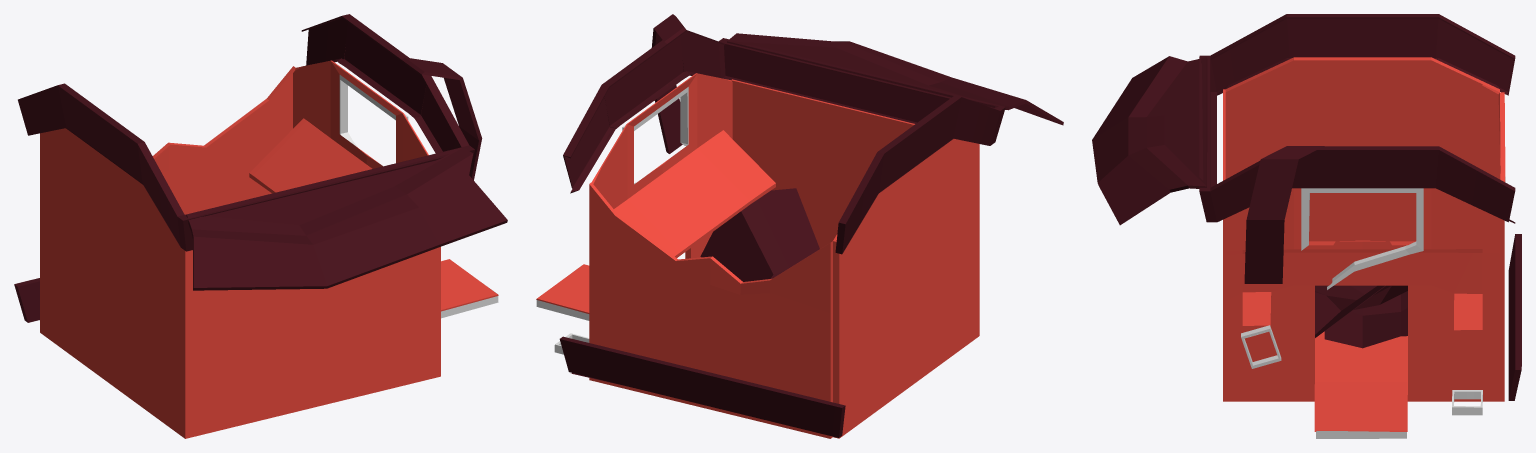
File: Ruined_FarmHouse.fbx
The picture shows the model from 3 angles, left to right: view 1: azimuth 30°, elevation 25°; view 2: azimuth 150°, elevation 25°; view 3: azimuth 270°, elevation 25°; orthographic projection. The views are drawn at different scales.
Visible parts, largest first — view 1: Base, broken leftside, Roof_Ridge, Top Roof, Base.002, white window, Roof_Ridge.002; view 2: Base, Roof_Ridge, Roof_Ridge.002, Top Roof.003, broken leftside, Base.002, Top Roof, white window; view 3: Base, Roof_Ridge, broken leftside, Base.002, Top Roof, Top Roof.002, Top Roof.003, white window, Roof_Ridge.002, white window.002, white window.001.
Boxes of the visible parts, x1,y1,x2,y2 form: Base: [40, 60, 440, 438]; broken leftside: [186, 147, 507, 290]; Roof_Ridge: [18, 14, 474, 251]; Top Roof: [402, 57, 482, 180]; Base.002: [441, 259, 498, 318]; white window: [339, 75, 408, 147]; Roof_Ridge.002: [14, 278, 39, 322]; Base: [589, 73, 979, 438]; Roof_Ridge: [563, 30, 1005, 254]; Roof_Ridge.002: [559, 336, 845, 437]; Top Roof.003: [700, 188, 819, 281]; broken leftside: [727, 33, 1063, 125]; Base.002: [536, 264, 589, 320]; Top Roof: [651, 14, 686, 153]; white window: [622, 87, 688, 184]; Base: [1223, 57, 1505, 401]; Roof_Ridge: [1199, 14, 1515, 223]; broken leftside: [1092, 56, 1207, 225]; Base.002: [1314, 381, 1407, 438]; Top Roof: [1244, 146, 1324, 283]; Top Roof.002: [1324, 291, 1407, 348]; Top Roof.003: [1315, 285, 1407, 337]; white window: [1301, 188, 1423, 289]; Roof_Ridge.002: [1508, 234, 1521, 400]; white window.002: [1452, 390, 1482, 415]; white window.001: [1241, 325, 1281, 368].
Size of the model in its own units: 1965 by 1293 by 1913.
